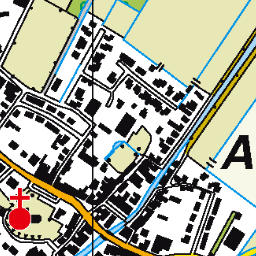church: (5, 186, 36, 230)
